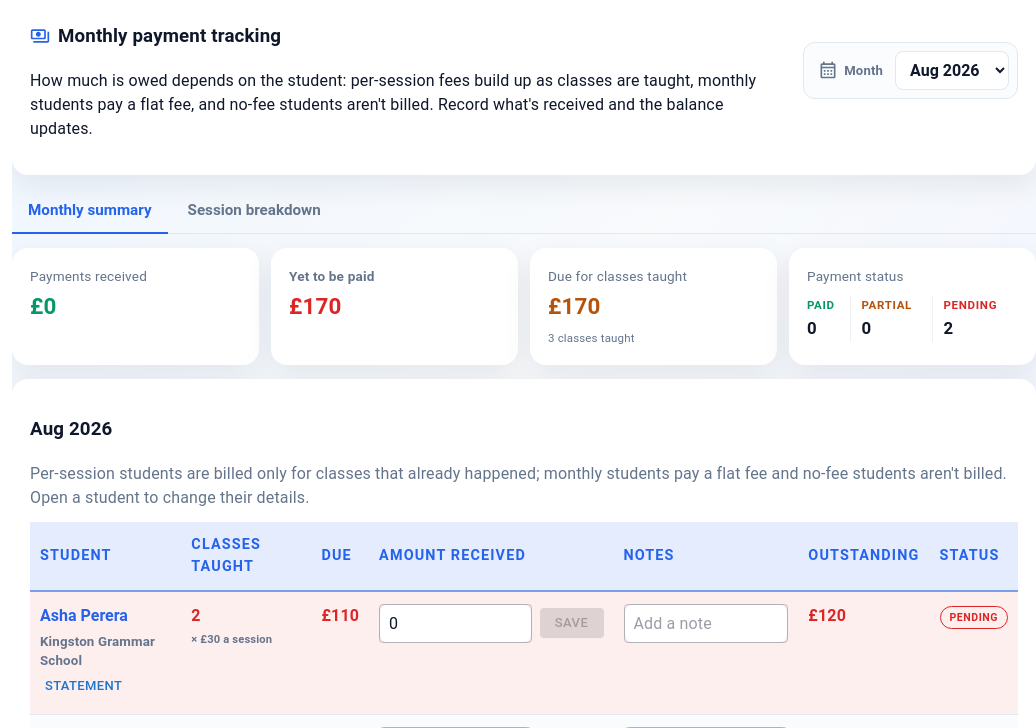
Test: PaymentTrackerView session breakdown › closes each student's block with their own total row
What coordinates should you click on to do the following:
click the tab "Session breakdown"
I would click on:
 (254, 211)
Its box is [172,189,337,234].
(page scrolled)
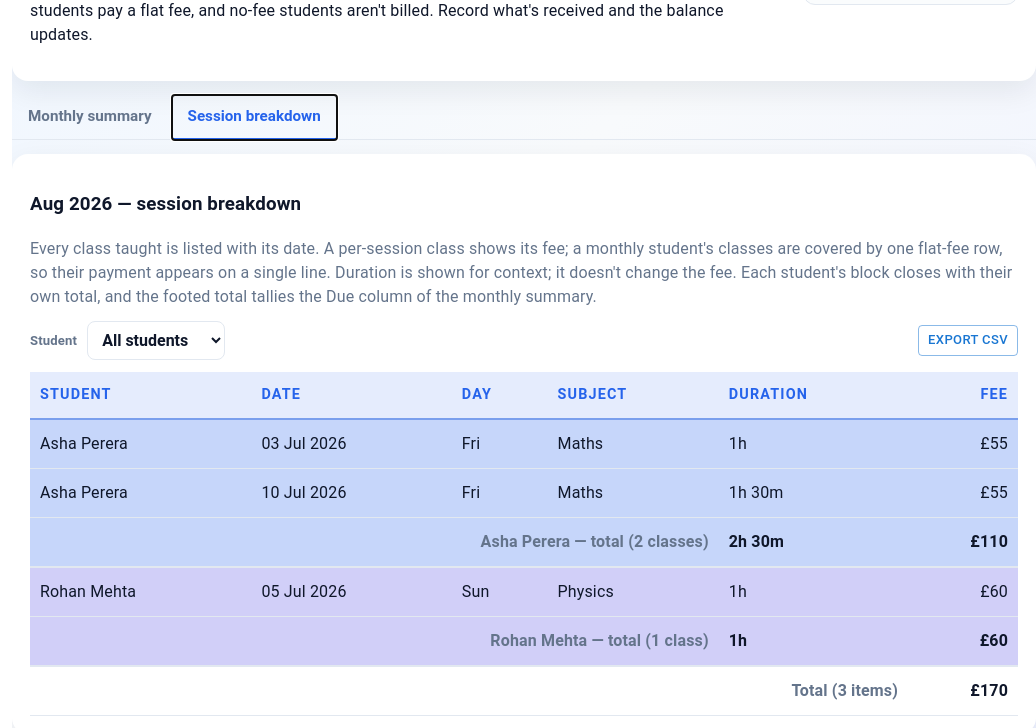
Expected: the text "£110" is shown, [908,517,1018,567]
Now the text "2h 30m" is shown, box [719,517,908,567]
